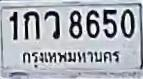0: (120, 8, 134, 37)
1: (9, 11, 17, 39)
5: (102, 9, 116, 37)
6: (86, 9, 98, 37)
8: (68, 9, 81, 38)
A01: (23, 10, 39, 39)
A37: (43, 10, 59, 38)
BKK: (19, 47, 122, 69)
